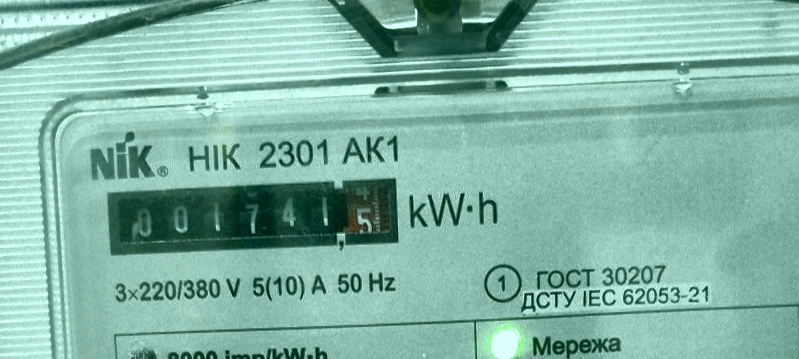0: (168, 202, 188, 236), (132, 206, 152, 239)
1: (204, 199, 222, 235), (314, 194, 330, 230)
4: (276, 194, 297, 230), (352, 184, 368, 203)
5: (351, 204, 371, 236)
7: (240, 200, 258, 236)
screen: (98, 172, 404, 262)
